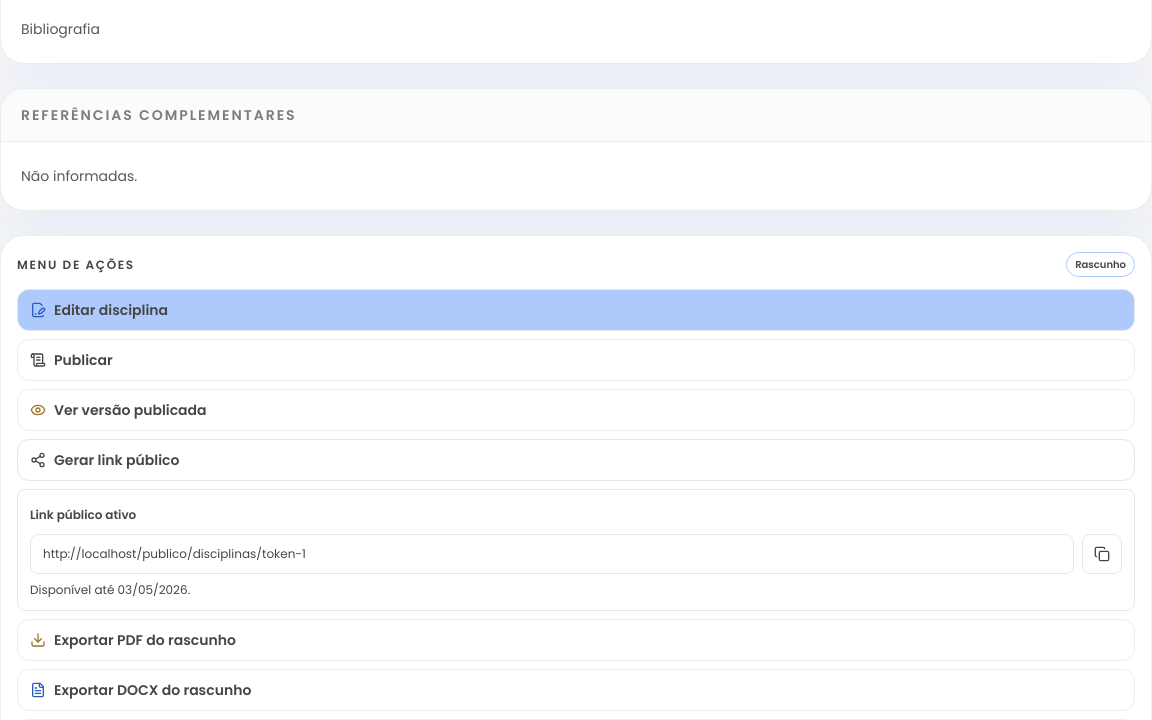
Test case: DisciplineDetailsPage › deve aprovar rascunho com data e número de ata
(page scrolled)
Click the button "Publicar" at {"x": 83, "y": 360}, box [17,339,1135,381]
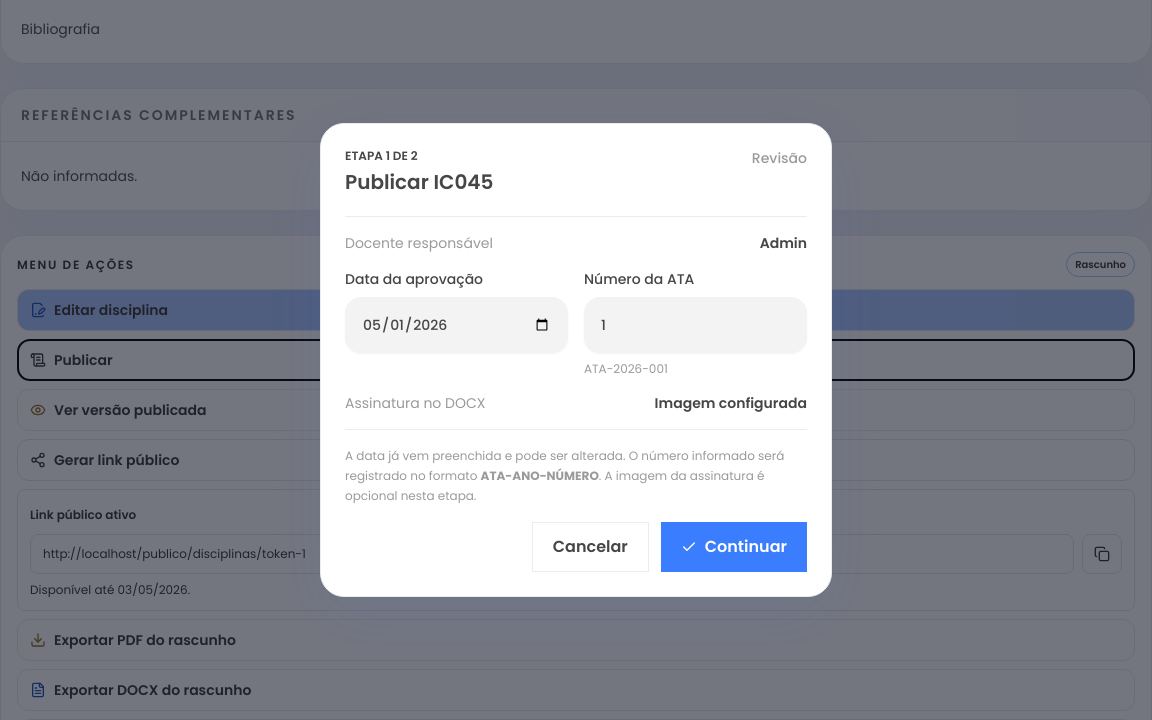
Check: the dialog "Publicar IC045" is shown, box [320,123,832,597]
Check: the text "ATA-2026-001" is shown, box [584,360,668,377]
Check: the text "Admin" is shown, box [760,233,807,253]
Click the button "Continuar" at {"x": 734, "y": 547}, box [661,522,807,572]
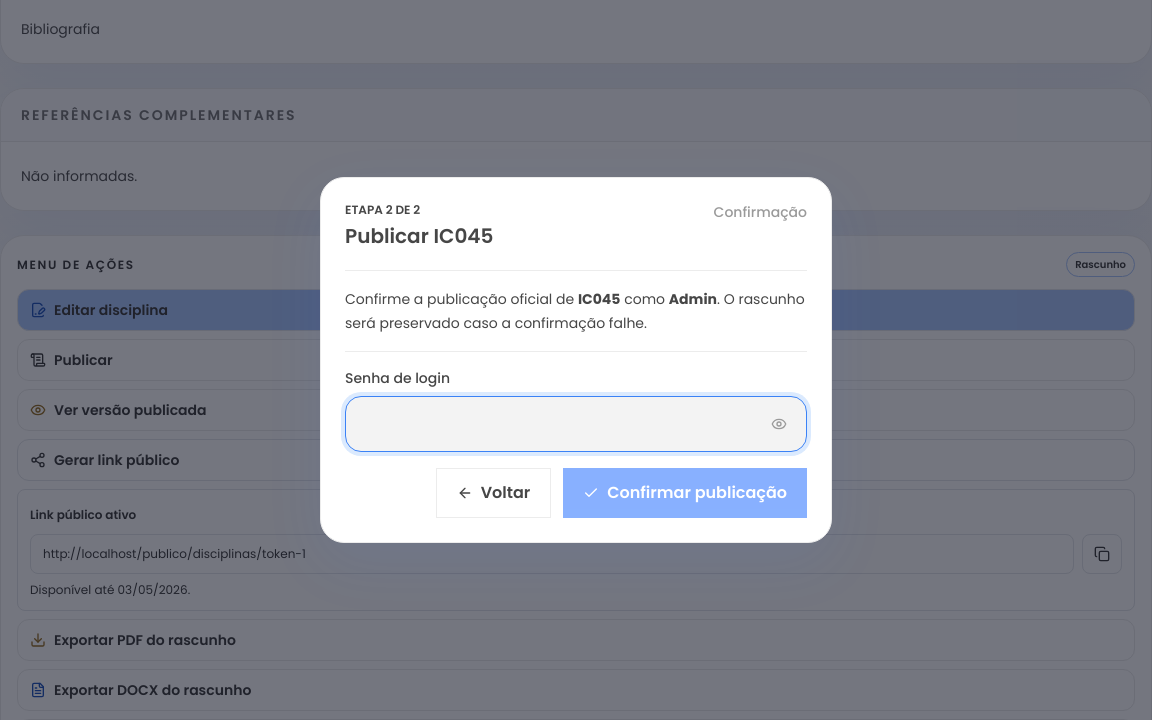
Type "Senha123!" into the password field labelled "Senha de login" at {"x": 576, "y": 424}, box [345,396,807,452]
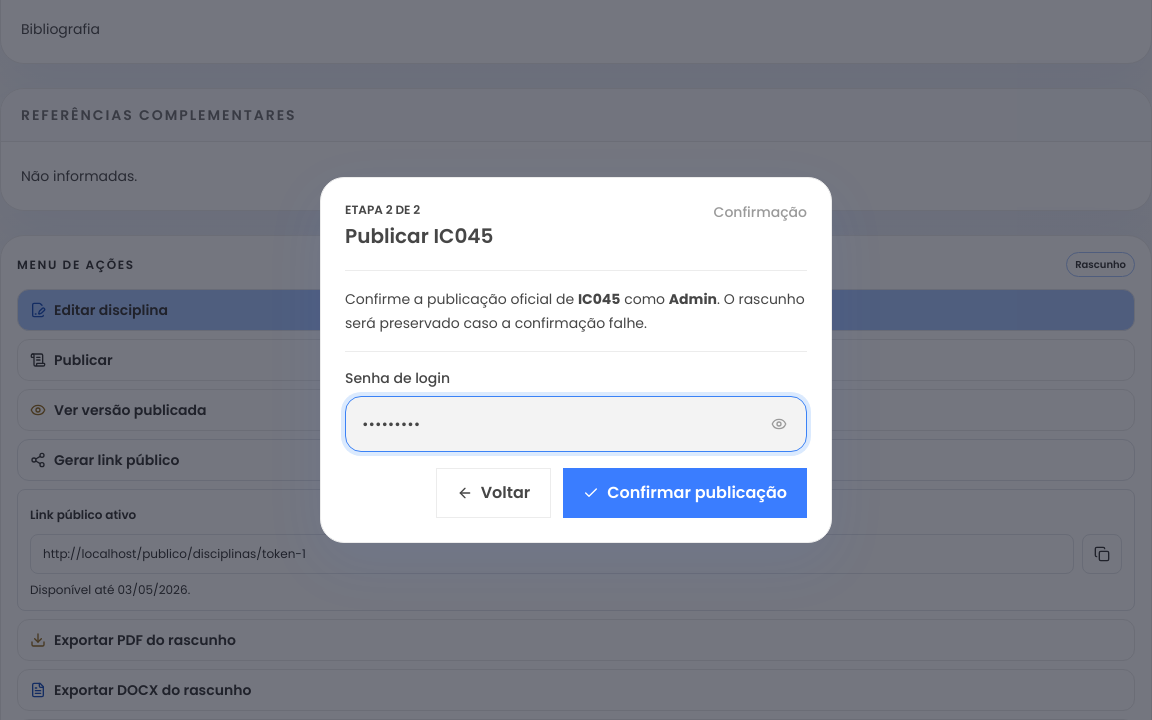
Click the button "Confirmar publicação" at {"x": 685, "y": 493}, box [563,468,807,518]
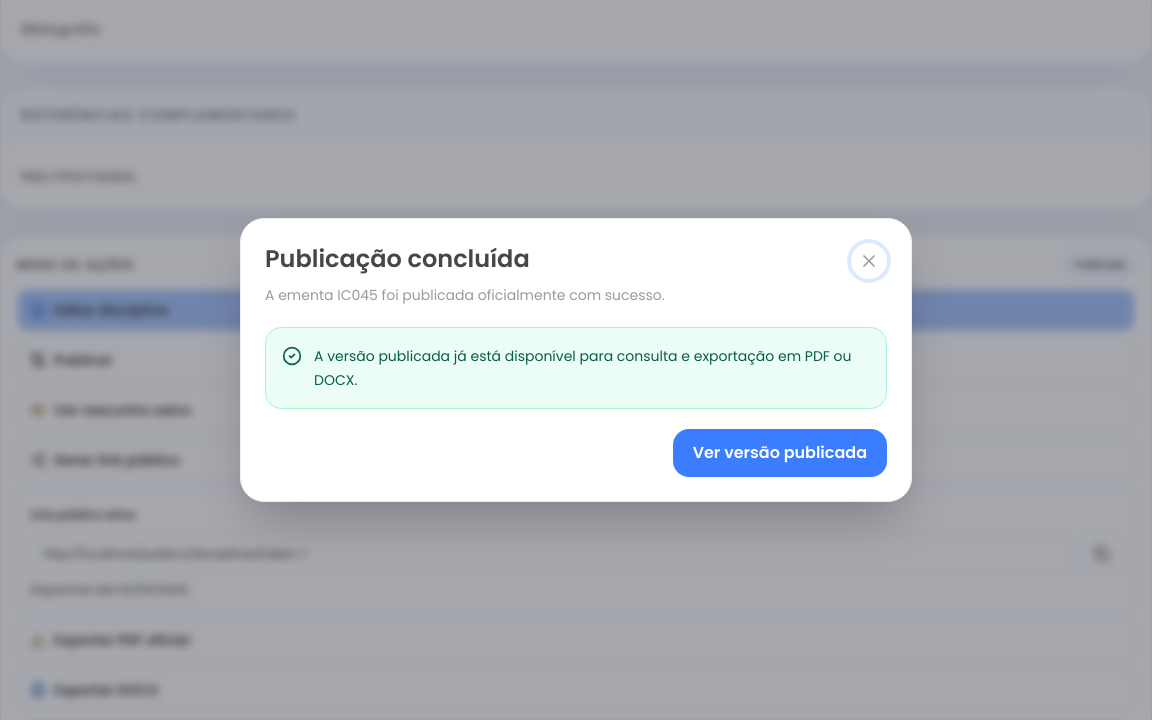
Check: the heading "Publicação concluída" is shown, box [265,242,530,275]
Check: the text "A ementa IC045 foi publicada oficialmente com sucesso." is shown, box [265,283,665,307]
